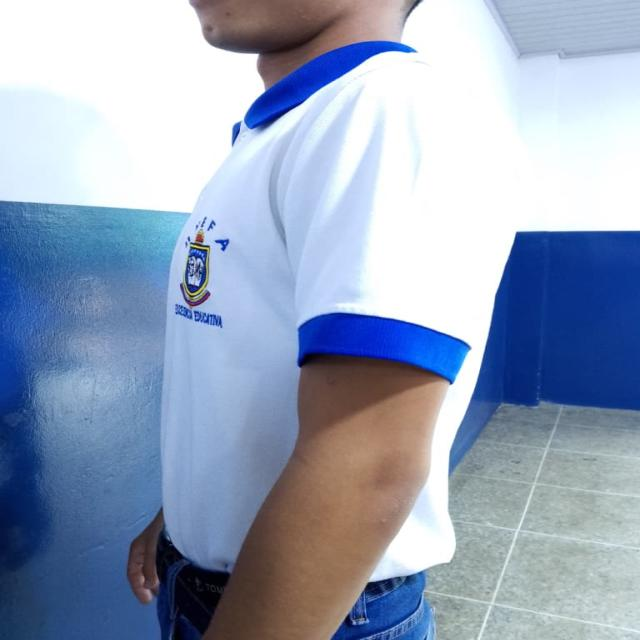uniforme_superior: (157, 40, 515, 582)
